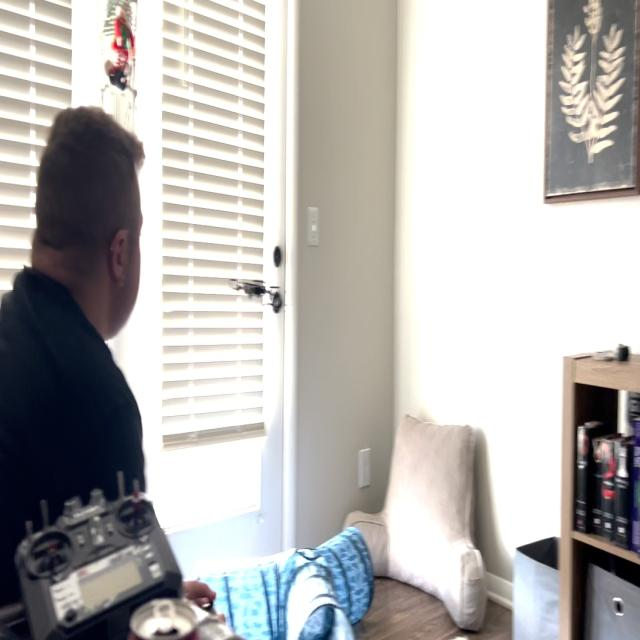drone: (223, 261, 291, 324)
